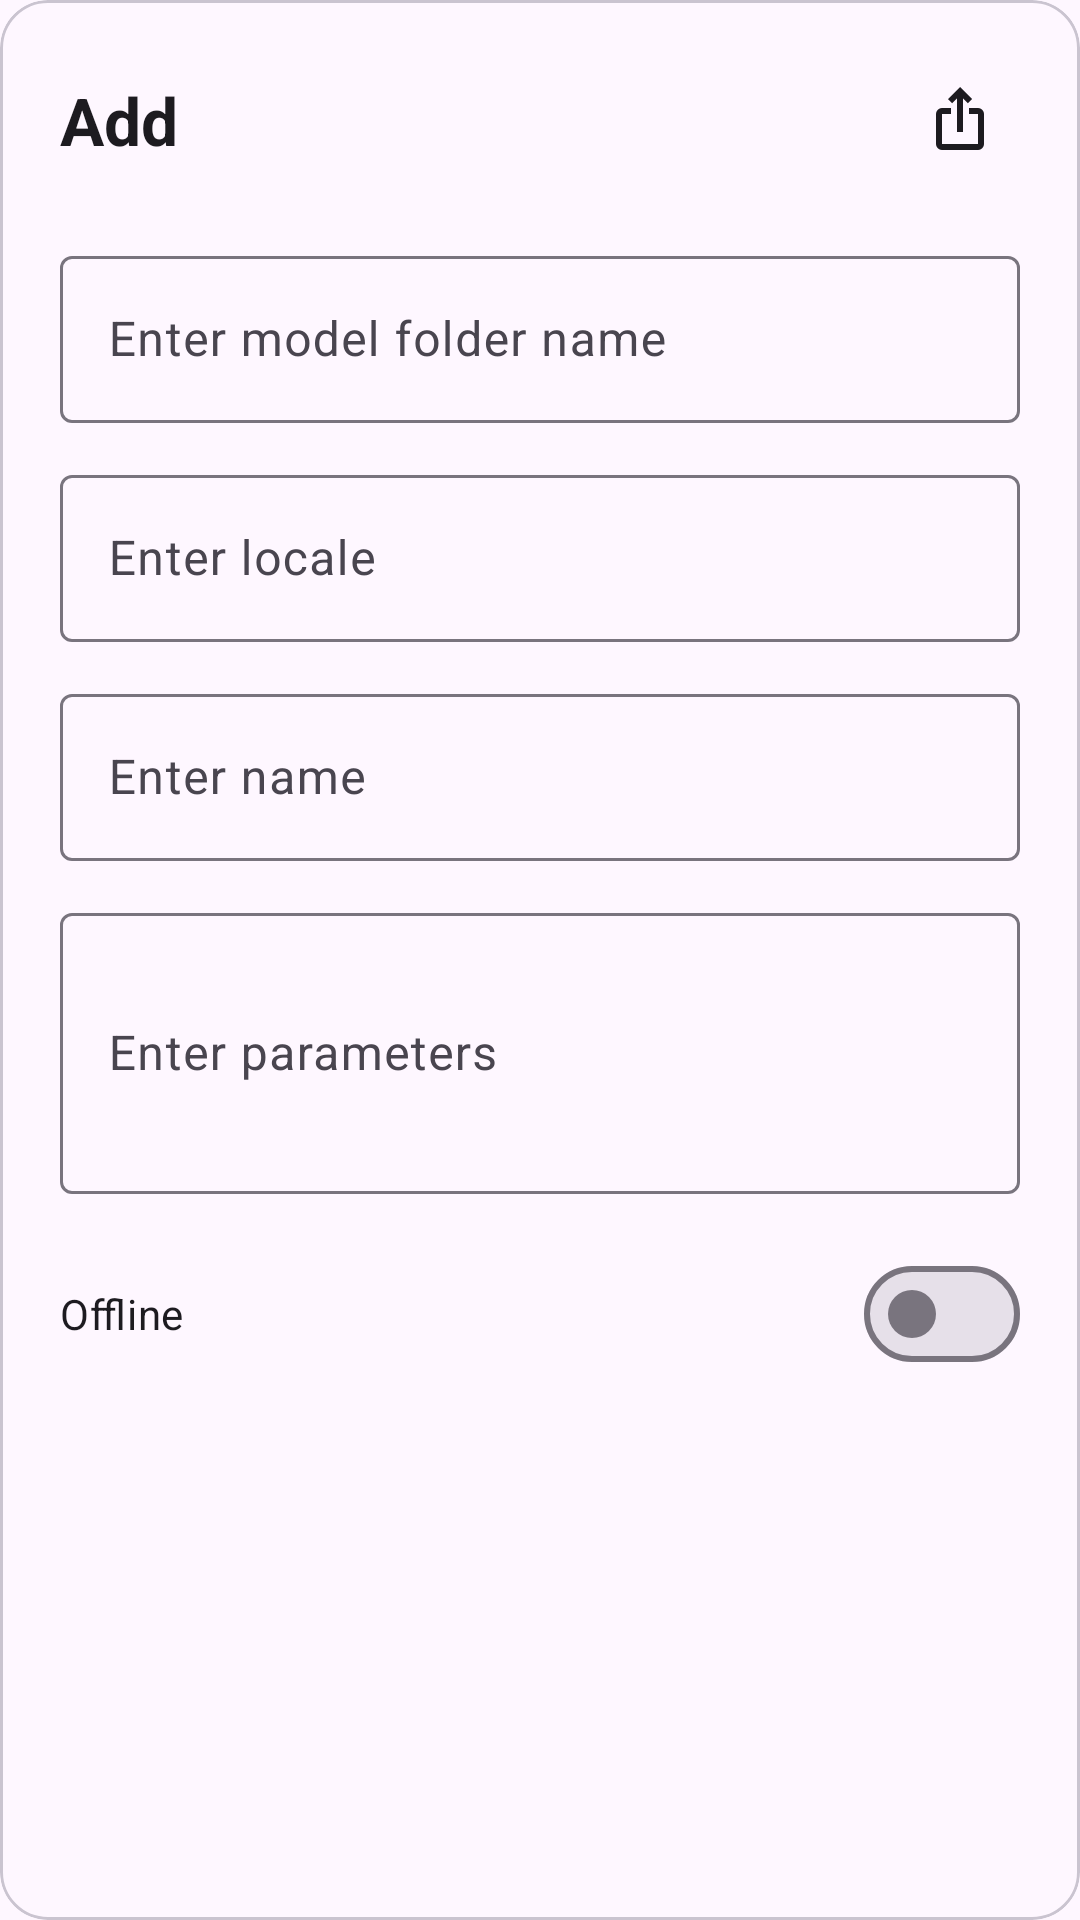

Where to tap for icons on this 1080px×1920px app screen, as (x,y):
Export: (960,118)
